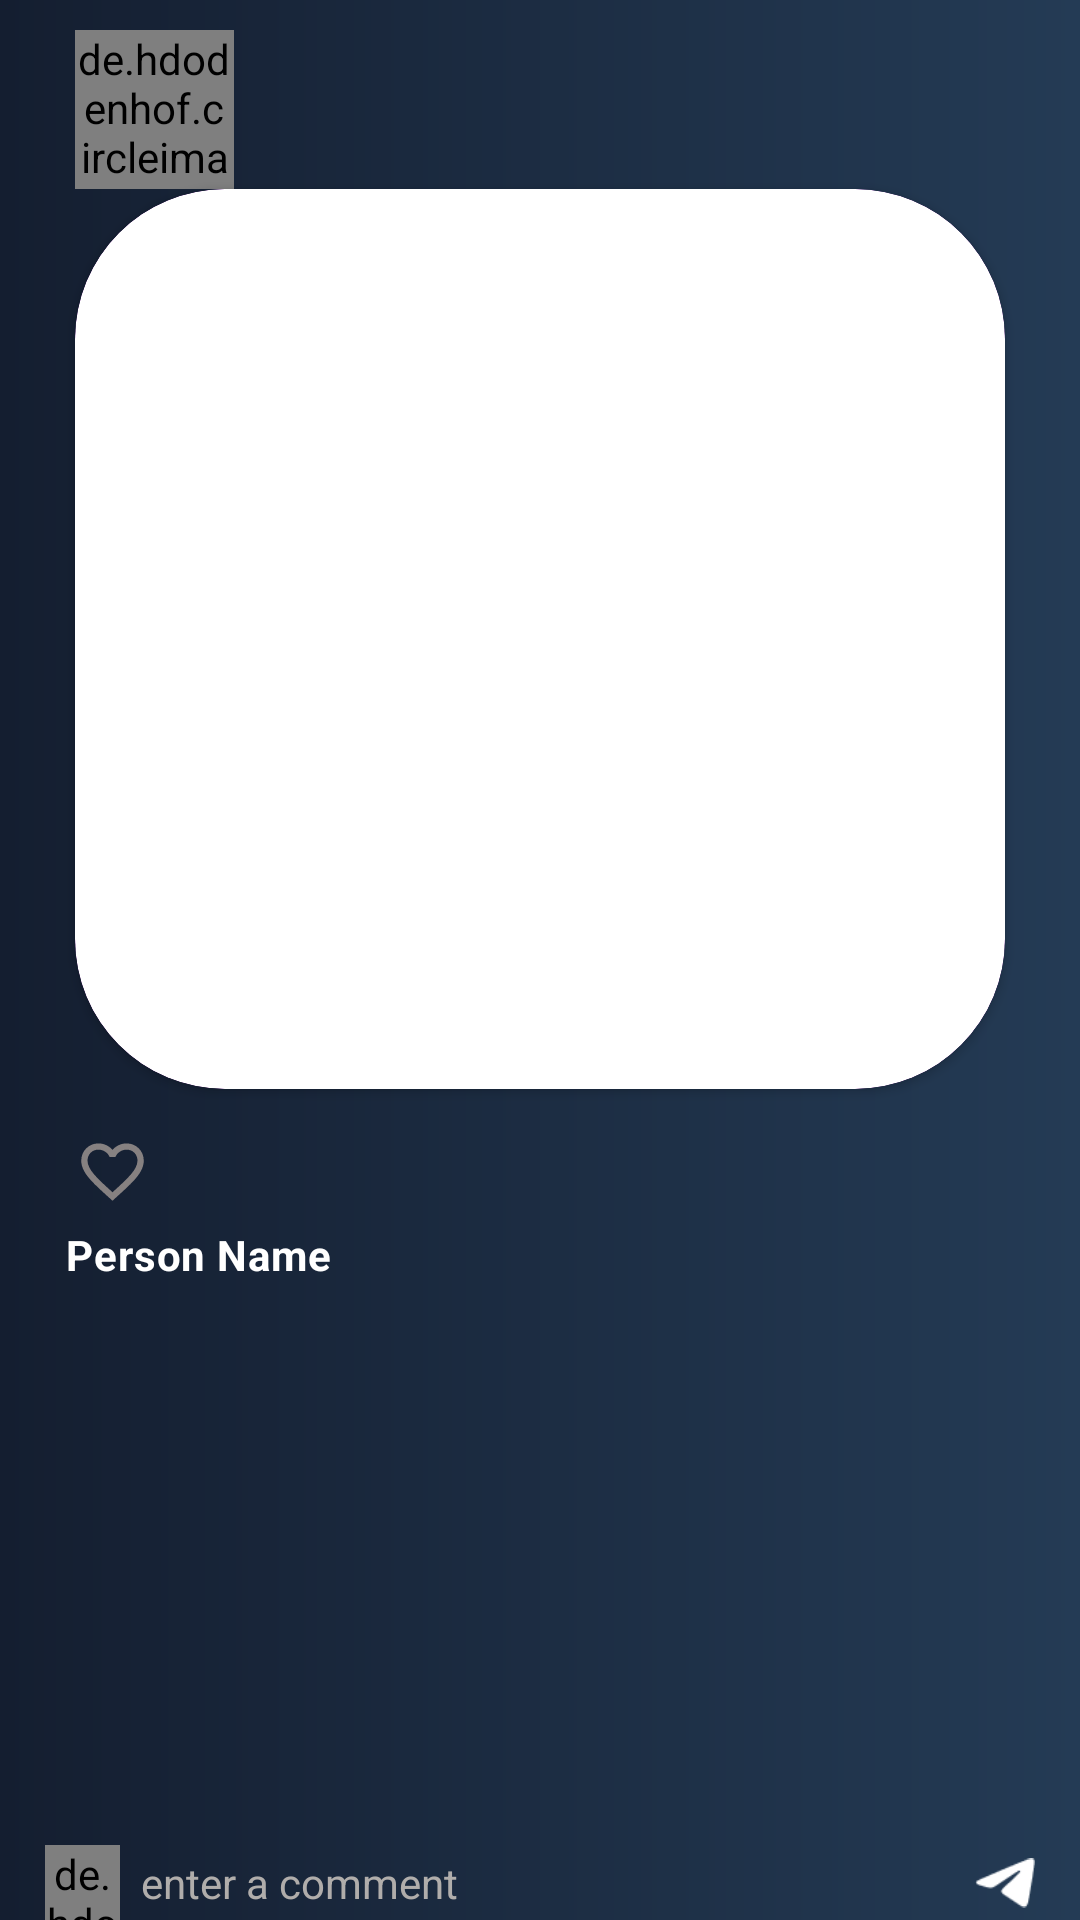

Where to tap for icons on this 1080x1920 app screen, as (x=x, y=y):
fav unlike: (x=112, y=1172)
send: (x=1005, y=1883)
